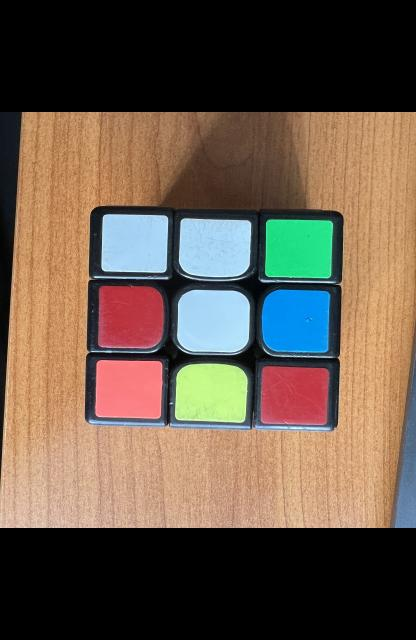Blue: (260, 290, 329, 352)
Green: (264, 219, 332, 279)
Orange: (94, 360, 162, 419)
Red: (97, 285, 163, 348), (259, 366, 328, 425)
White: (176, 290, 249, 352), (178, 218, 250, 278), (100, 214, 168, 272)
Yellow: (174, 363, 247, 423)
